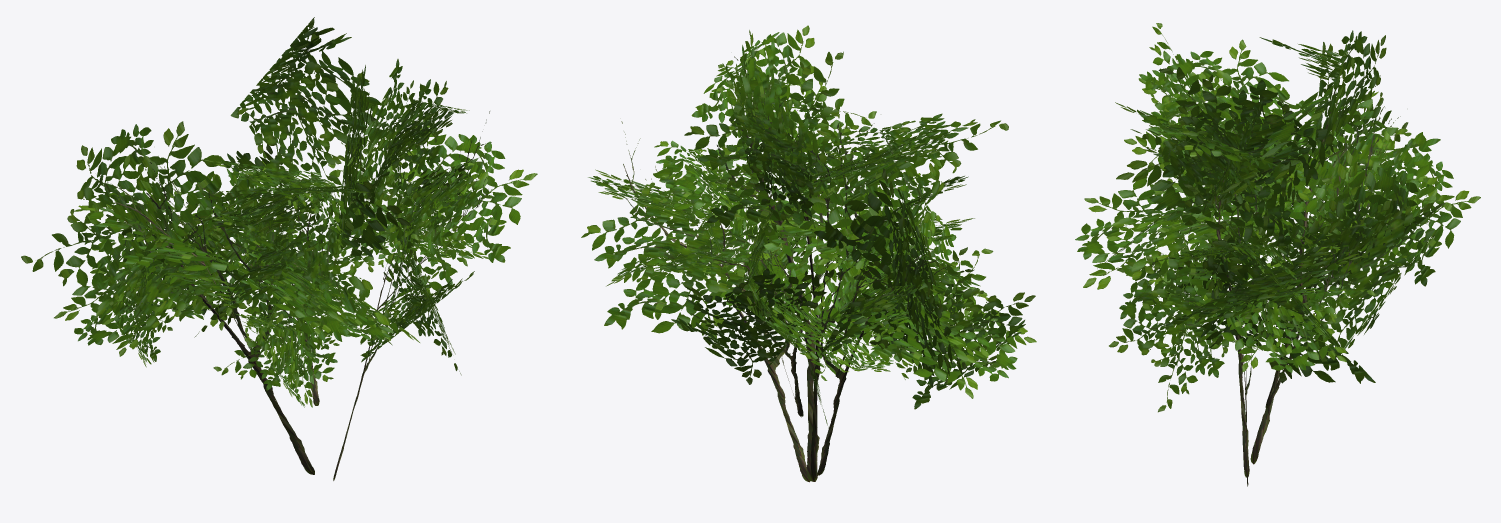
Rendered from BSwap_LPBushesmod.fbx.
The picture shows the model from 3 angles, left to right: view 1: azimuth 30°, elevation 25°; view 2: azimuth 150°, elevation 25°; view 3: azimuth 270°, elevation 25°; orthographic projection. The views are drawn at different scales.
Parts seen in each view (by area): view 1: Bushes_02; view 2: Bushes_02; view 3: Bushes_02.
Boxes of the visible parts, x1,y1,x2,y2 form: Bushes_02: [21, 17, 537, 480]; Bushes_02: [581, 25, 1036, 482]; Bushes_02: [1075, 23, 1480, 486].
Size of the model in its own units: 125 by 122 by 93.22.
1 material, 1 textured.
